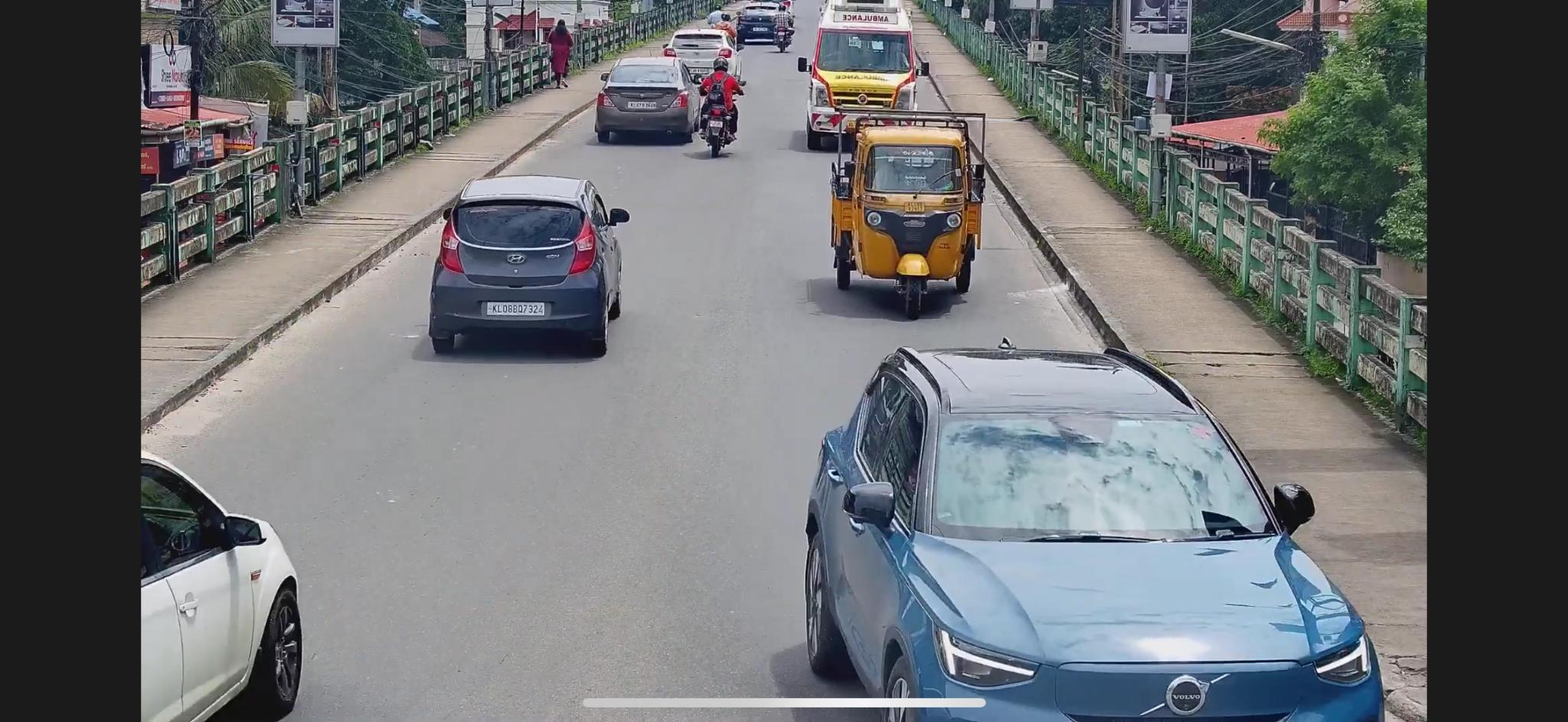ambulance: (809, 0, 916, 149)
